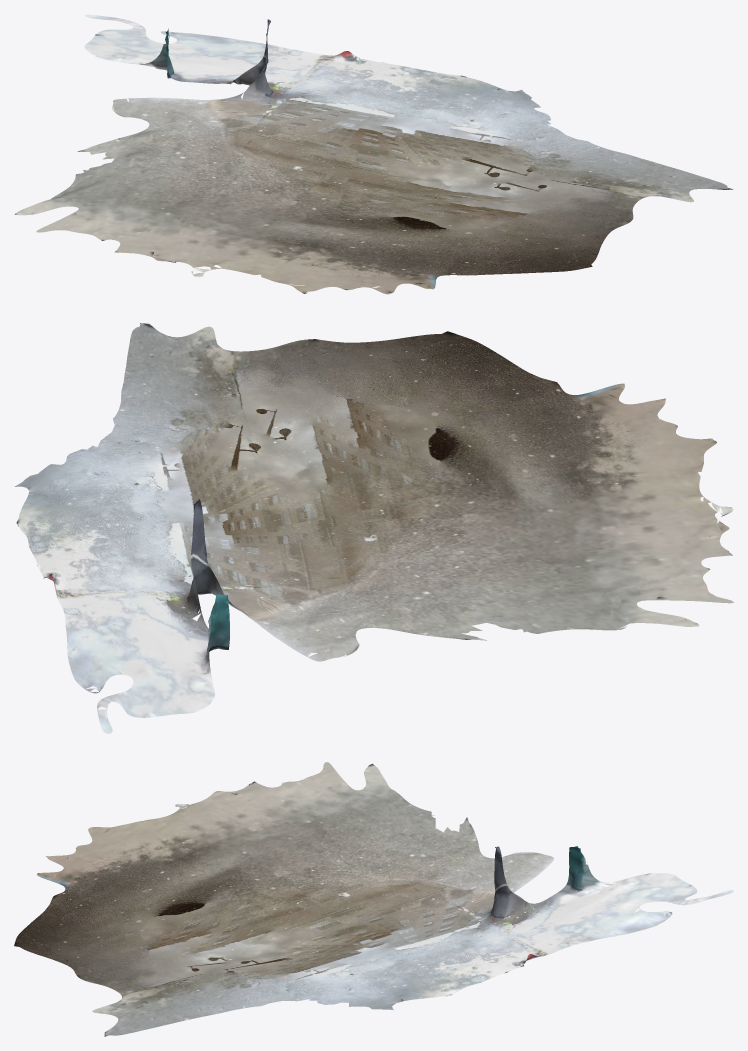
File: 30 Jan at 2_43 PM-poly.dae
The picture shows the model from 3 angles, top to bottom: view 1: azimuth 30°, elevation 25°; view 2: azimuth 150°, elevation 25°; view 3: azimuth 270°, elevation 25°; orthographic projection. The views are drawn at different scales.
Visible parts, largest first — view 1: MDL_OBJ_material0000; view 2: MDL_OBJ_material0000; view 3: MDL_OBJ_material0000.
Boxes of the visible parts, x1,y1,x2,y2 form: MDL_OBJ_material0000: (14, 14, 733, 294); MDL_OBJ_material0000: (14, 323, 733, 733); MDL_OBJ_material0000: (14, 762, 733, 1036).
Bounding box in the file's own units: 6.34 × 0.8611 × 7.31.
1 material, 1 textured.
